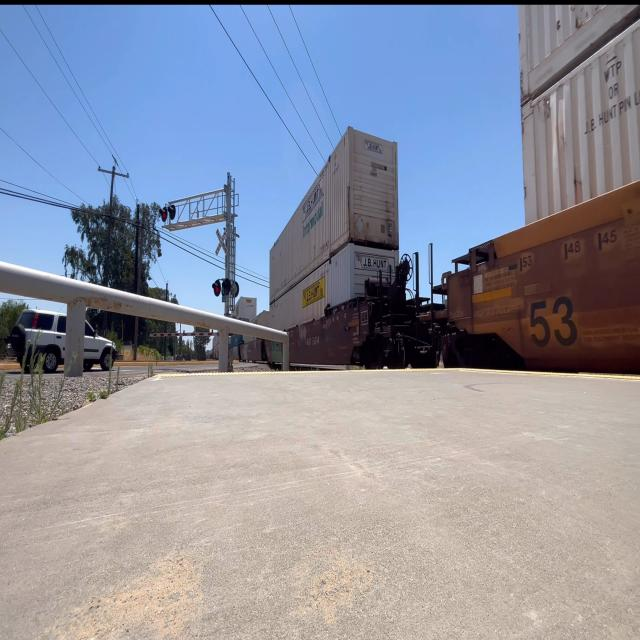container: (518, 23, 640, 228), (268, 120, 402, 306), (267, 241, 400, 335)
flatcar: (428, 146, 640, 397), (264, 292, 420, 374)
